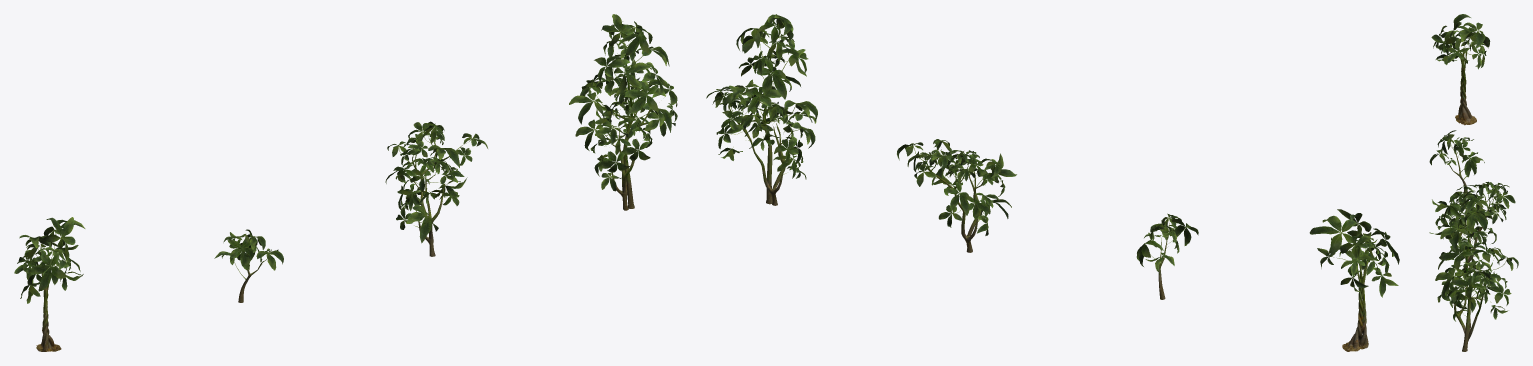
File: pachira_aquatica_01.glb
3 renders of one model, left to right at view 1: azimuth 30°, elevation 25°; view 2: azimuth 150°, elevation 25°; view 3: azimuth 270°, elevation 25°, orthographic. The views are drawn at different scales.
Parts seen in each view (by area): view 1: pachira_aquatica_01_leaves_d, pachira_aquatica_01_leaves_c, pachira_aquatica_01_leaves_a, pachira_aquatica_01_leaves_b, pachira_aquatica_01_bark_d, pachira_aquatica_01_bark_c, pachira_aquatica_01_bark_a; view 2: pachira_aquatica_01_leaves_d, pachira_aquatica_01_leaves_c, pachira_aquatica_01_leaves_a, pachira_aquatica_01_leaves_b, pachira_aquatica_01_bark_d, pachira_aquatica_01_bark_a, pachira_aquatica_01_bark_c; view 3: pachira_aquatica_01_leaves_d, pachira_aquatica_01_leaves_c, pachira_aquatica_01_leaves_a, pachira_aquatica_01_leaves_b, pachira_aquatica_01_bark_d, pachira_aquatica_01_bark_a, pachira_aquatica_01_bark_c, pachira_aquatica_01_bark_b.
Part boxes in pixels (bbox=[...]): pachira_aquatica_01_leaves_d: bbox=[569, 14, 677, 191]; pachira_aquatica_01_leaves_c: bbox=[385, 121, 487, 243]; pachira_aquatica_01_leaves_a: bbox=[14, 217, 85, 303]; pachira_aquatica_01_leaves_b: bbox=[214, 229, 283, 279]; pachira_aquatica_01_bark_d: bbox=[595, 44, 652, 210]; pachira_aquatica_01_bark_c: bbox=[409, 138, 457, 256]; pachira_aquatica_01_bark_a: bbox=[36, 265, 61, 351]; pachira_aquatica_01_leaves_d: bbox=[706, 14, 817, 179]; pachira_aquatica_01_leaves_c: bbox=[897, 139, 1016, 235]; pachira_aquatica_01_leaves_a: bbox=[1309, 209, 1399, 297]; pachira_aquatica_01_leaves_b: bbox=[1136, 213, 1198, 274]; pachira_aquatica_01_bark_d: bbox=[728, 44, 792, 205]; pachira_aquatica_01_bark_a: bbox=[1342, 259, 1368, 351]; pachira_aquatica_01_bark_c: bbox=[923, 159, 985, 252]; pachira_aquatica_01_leaves_d: bbox=[1429, 190, 1518, 321]; pachira_aquatica_01_leaves_c: bbox=[1432, 181, 1515, 244]; pachira_aquatica_01_leaves_a: bbox=[1431, 14, 1490, 69]; pachira_aquatica_01_leaves_b: bbox=[1429, 130, 1484, 179]; pachira_aquatica_01_bark_d: bbox=[1454, 219, 1492, 351]; pachira_aquatica_01_bark_a: bbox=[1455, 48, 1476, 125]; pachira_aquatica_01_bark_c: bbox=[1453, 190, 1497, 268]; pachira_aquatica_01_bark_b: bbox=[1449, 149, 1467, 195].
Size of the model in its own units: 6.87 by 1.9 by 0.997.
Materials: 2 (2 with a texture image).
